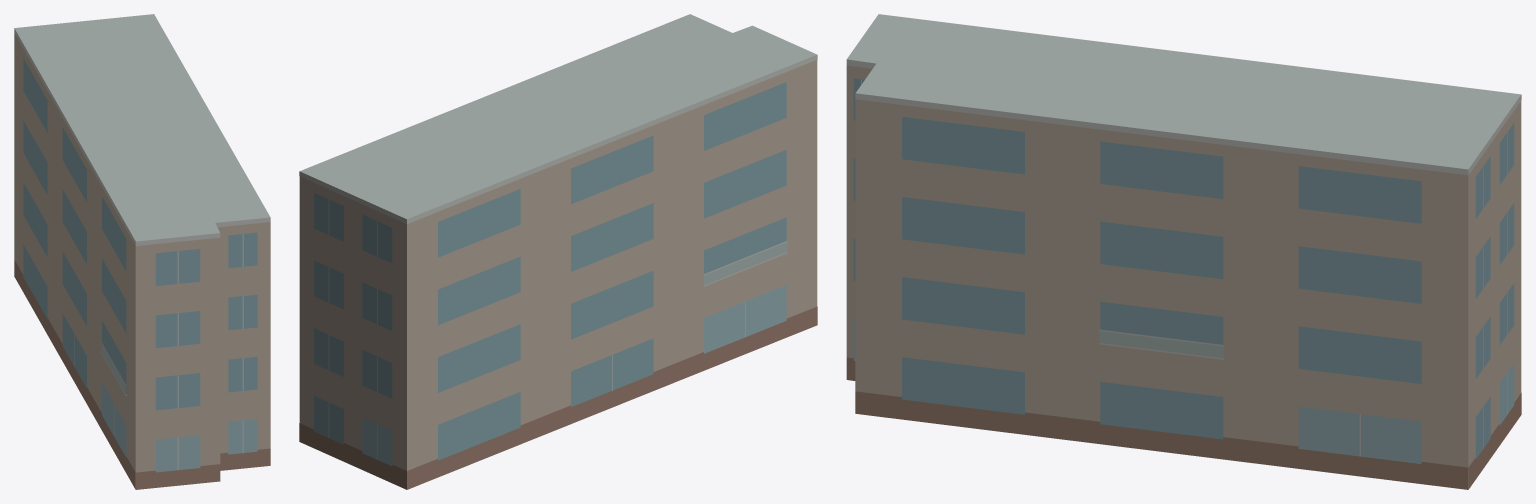
Rendered from survey-upis-32687671.glb.
3 views of the same model, side by side, from view 1: azimuth 30°, elevation 25°; view 2: azimuth 150°, elevation 25°; view 3: azimuth 270°, elevation 25° (orthographic). The views are drawn at different scales.
Visible parts, largest first — view 1: survey-upis-32687671.tmp; view 2: survey-upis-32687671.tmp; view 3: survey-upis-32687671.tmp.
Boxes of the visible parts, x1,y1,x2,y2 form: survey-upis-32687671.tmp: (14, 14, 270, 489); survey-upis-32687671.tmp: (299, 14, 817, 489); survey-upis-32687671.tmp: (846, 14, 1521, 489).
Size of the model in its own units: 13.85 by 13.3 by 25.39.
